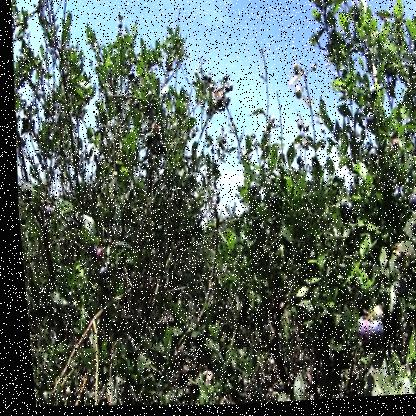mature: (350, 321, 368, 349), (364, 325, 382, 349), (402, 193, 416, 220)
young: (362, 306, 380, 328), (290, 87, 302, 108)
